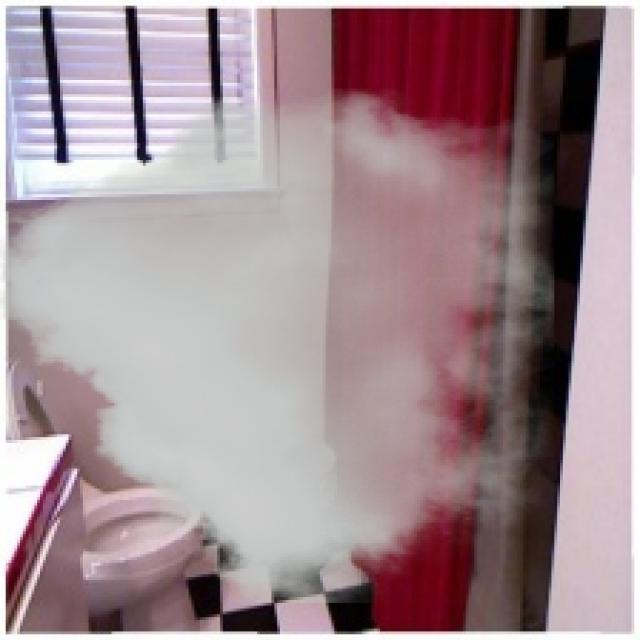Smoke: (0, 88, 555, 603)
